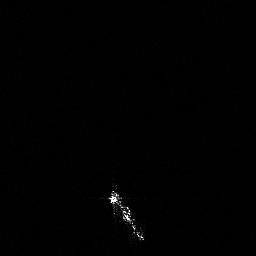ship: (104, 187, 146, 244)
